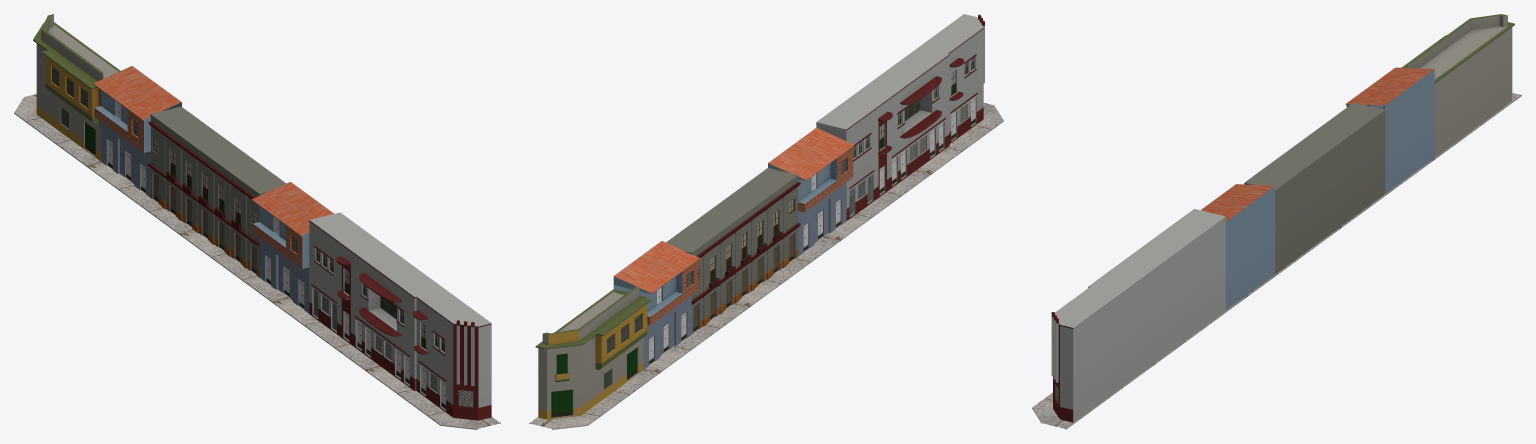
The model's file is Cuadra2.fbx.
3 renders of one model, left to right at view 1: azimuth 30°, elevation 25°; view 2: azimuth 150°, elevation 25°; view 3: azimuth 330°, elevation 25°, orthographic. The views are drawn at different scales.
Visible parts, largest first — view 1: Casa4, casa2, polySurface425 (×2), Anden, casa3, local2, local1; view 2: Casa4, casa2, casa3, polySurface425 (×2), Anden, local2, local1; view 3: Casa4, casa2, polySurface425 (×2), casa3, Anden.
Boxes of the visible parts, bbox=[...] form: Casa4: bbox=[309, 212, 491, 420]; casa2: bbox=[148, 106, 286, 277]; polySurface425 (×2): bbox=[93, 66, 333, 308]; Anden: bbox=[14, 94, 500, 429]; casa3: bbox=[33, 14, 120, 161]; local2: bbox=[259, 238, 309, 313]; local1: bbox=[101, 122, 150, 197]; Casa4: bbox=[816, 14, 984, 220]; casa2: bbox=[666, 168, 800, 333]; casa3: bbox=[535, 287, 651, 419]; polySurface425 (×2): bbox=[613, 127, 854, 364]; Anden: bbox=[529, 103, 1003, 429]; local2: bbox=[798, 182, 846, 256]; local1: bbox=[643, 295, 692, 369]; Casa4: bbox=[1051, 209, 1225, 422]; casa2: bbox=[1244, 102, 1385, 274]; polySurface425 (×2): bbox=[1201, 67, 1434, 310]; casa3: bbox=[1402, 14, 1514, 157]; Anden: bbox=[1032, 93, 1521, 429].
Size of the model in its own units: 14.75 by 29.85 by 247.
Materials: 4 (2 with a texture image).
